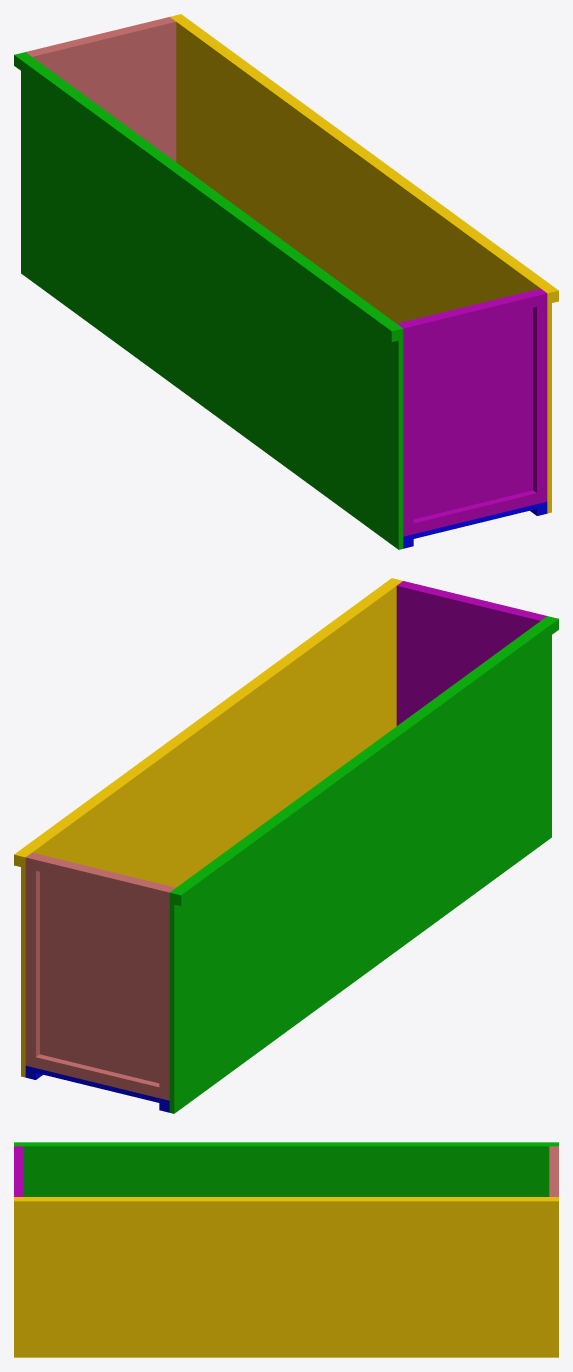
File: result.glb
3 renders of one model, top to bottom at view 1: azimuth 30°, elevation 25°; view 2: azimuth 150°, elevation 25°; view 3: azimuth 270°, elevation 25°, orthographic. The views are drawn at different scales.
Parts seen in each view (by area): view 1: f5bc275d-3097-4868-9af8-5618c212d442__Box_6, ebb28a21-40bd-4da5-b643-6ca1dbee5ddc__undefined, 7a27a2da-8c38-4514-bbd6-375966154974__Box_3, 8b488c5f-cf1b-4737-8bc5-f734b3f19869__undefined, fef4337d-1003-4992-a3fb-203264a7421b__Box_7, 2205bae5-a7d7-4d14-8133-fccd744f7dbc__undefined, 58df6d84-7057-4489-9d0b-679cbd186cdf__undefined, 2db07bf3-5265-45a5-98b8-dbe848244db0__Box_4, 4b5a6fe4-ca29-414a-9990-e0d4588488be__undefined, 7d171101-a88f-485e-97e8-b3177ba5ea74__Box_5, 027db335-9bf1-4202-9d1f-18fdd0622858__Box; view 2: f5bc275d-3097-4868-9af8-5618c212d442__Box_6, ebb28a21-40bd-4da5-b643-6ca1dbee5ddc__undefined, 8b488c5f-cf1b-4737-8bc5-f734b3f19869__undefined, 7a27a2da-8c38-4514-bbd6-375966154974__Box_3, fef4337d-1003-4992-a3fb-203264a7421b__Box_7, dcd2bb47-a1e1-4dca-8fb3-fb1aa2f67566__undefined, 58df6d84-7057-4489-9d0b-679cbd186cdf__undefined, 7ae751c2-9ced-4e29-ae7d-b3b0de012ca3__undefined, a300418a-312d-4887-90a3-199a64adcf9f__undefined, 53437f49-841e-42d9-bf7a-190ff7980a79__undefined, 027db335-9bf1-4202-9d1f-18fdd0622858__Box; view 3: ebb28a21-40bd-4da5-b643-6ca1dbee5ddc__undefined, f5bc275d-3097-4868-9af8-5618c212d442__Box_6, 58df6d84-7057-4489-9d0b-679cbd186cdf__undefined, fef4337d-1003-4992-a3fb-203264a7421b__Box_7.
Boxes of the visible parts, <box> form: f5bc275d-3097-4868-9af8-5618c212d442__Box_6: <box>21,52,403,549</box>; ebb28a21-40bd-4da5-b643-6ca1dbee5ddc__undefined: <box>170,16,551,513</box>; 7a27a2da-8c38-4514-bbd6-375966154974__Box_3: <box>397,288,542,519</box>; 8b488c5f-cf1b-4737-8bc5-f734b3f19869__undefined: <box>30,20,176,161</box>; fef4337d-1003-4992-a3fb-203264a7421b__Box_7: <box>14,53,398,341</box>; 2205bae5-a7d7-4d14-8133-fccd744f7dbc__undefined: <box>533,290,547,503</box>; 58df6d84-7057-4489-9d0b-679cbd186cdf__undefined: <box>174,14,558,302</box>; 2db07bf3-5265-45a5-98b8-dbe848244db0__Box_4: <box>400,323,413,536</box>; 4b5a6fe4-ca29-414a-9990-e0d4588488be__undefined: <box>410,293,536,336</box>; 7d171101-a88f-485e-97e8-b3177ba5ea74__Box_5: <box>413,490,536,533</box>; 027db335-9bf1-4202-9d1f-18fdd0622858__Box: <box>403,501,547,541</box>; f5bc275d-3097-4868-9af8-5618c212d442__Box_6: <box>169,616,551,1113</box>; ebb28a21-40bd-4da5-b643-6ca1dbee5ddc__undefined: <box>21,580,402,1077</box>; 8b488c5f-cf1b-4737-8bc5-f734b3f19869__undefined: <box>30,852,175,1083</box>; 7a27a2da-8c38-4514-bbd6-375966154974__Box_3: <box>396,584,542,725</box>; fef4337d-1003-4992-a3fb-203264a7421b__Box_7: <box>174,617,558,905</box>; dcd2bb47-a1e1-4dca-8fb3-fb1aa2f67566__undefined: <box>25,854,39,1067</box>; 58df6d84-7057-4489-9d0b-679cbd186cdf__undefined: <box>14,578,398,866</box>; 7ae751c2-9ced-4e29-ae7d-b3b0de012ca3__undefined: <box>159,887,172,1100</box>; a300418a-312d-4887-90a3-199a64adcf9f__undefined: <box>36,857,162,900</box>; 53437f49-841e-42d9-bf7a-190ff7980a79__undefined: <box>36,1054,159,1097</box>; 027db335-9bf1-4202-9d1f-18fdd0622858__Box: <box>25,1065,169,1105</box>; ebb28a21-40bd-4da5-b643-6ca1dbee5ddc__undefined: <box>14,1197,558,1357</box>; f5bc275d-3097-4868-9af8-5618c212d442__Box_6: <box>14,1144,558,1196</box>; 58df6d84-7057-4489-9d0b-679cbd186cdf__undefined: <box>14,1198,558,1208</box>; fef4337d-1003-4992-a3fb-203264a7421b__Box_7: <box>14,1142,558,1144</box>.
Bounding box in the file's own units: 580 × 730 × 2270.
